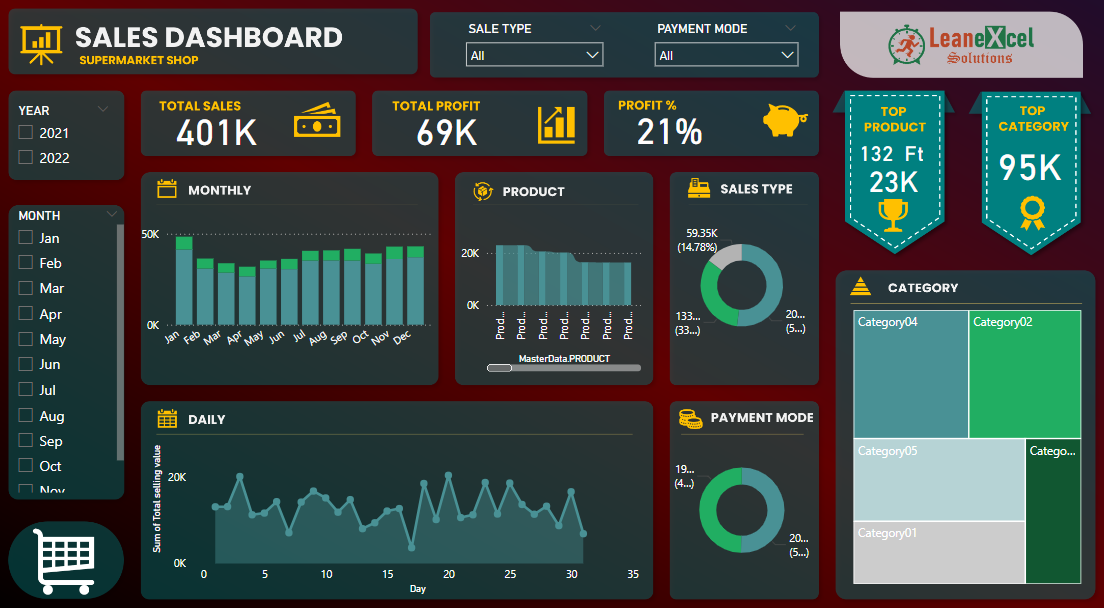

The page's visual inventory and layout, read from the dashboard file:
{"tool":"powerbi","page":{"name":"Page 1","canvas":[1280,720],"ordinal":0},"visuals":[{"type":"slicer","fields":{"Values":["InputData.Year"]},"box":[17.1,122.9,128.6,91.4],"z":0},{"type":"slicer","fields":{"Values":["InputData.Month Name"]},"box":[17.1,242.9,138.6,335.7],"z":1000},{"type":"slicer","fields":{"Values":["InputData.SALE TYPE"]},"box":[531.4,30,177.1,60],"z":2000},{"type":"slicer","fields":{"Values":["InputData.PAYMENT MODE"]},"box":[747.1,30,184.3,60],"z":3000},{"type":"card","fields":{"Values":["Sum(InputData.Total selling value)"]},"box":[204.3,132.9,104.3,50],"z":4000},{"type":"card","fields":{"Values":["InputData.profit"]},"box":[462.9,130,112.9,54.3],"z":5000},{"type":"card","fields":{"Values":["InputData.profit %"]},"box":[708.6,122.9,131.4,67.1],"z":6000},{"type":"card","fields":{"Values":["Sum(InputData.QUANTITY)"]},"box":[980,157.1,61.4,57.1],"z":7000},{"type":"card","fields":{"Values":["Sum(InputData.Total selling value)"]},"box":[1134.3,164.3,102.9,65.7],"z":8000},{"type":"card","fields":{"Values":["Sum(InputData.Total selling value)"]},"box":[995.7,194.3,68.6,42.9],"z":9000},{"type":"columnChart","fields":{"Category":["InputData.Month Name"],"Y":["Sum(InputData.Total selling value)","InputData.profit"]},"box":[165.7,242.9,342.9,185.7],"z":10000},{"type":"areaChart","fields":{"Y":["Sum(InputData.Total selling value)"],"Category":["InputData.Day"]},"box":[178.6,492.9,568.6,201.4],"z":11000},{"type":"donutChart","fields":{"Y":["Sum(InputData.Total selling value)"],"Category":["InputData.SALE TYPE"]},"box":[774.3,244.3,165.7,184.3],"z":12000},{"type":"donutChart","fields":{"Y":["Sum(InputData.Total selling value)"],"Category":["InputData.PAYMENT MODE"]},"box":[770,492.9,174.3,201.4],"z":13000},{"type":"treemap","fields":{"Values":["Sum(InputData.Total selling value)"],"Group":["InputData.MasterData.CATEGORY"]},"box":[980,360,270,322.9],"z":14000},{"type":"ribbonChart","fields":{"Category":["InputData.MasterData.PRODUCT"],"Y":["Sum(InputData.Total selling value)"]},"box":[531.4,255.7,215.7,184.3],"z":15000},{"type":"card","fields":{"Values":["Min(InputData.MasterData.UOM)"]},"box":[1030,164.3,48.6,42.9],"z":15001}]}

Visuals, with their boxes in screenshot pixels (x1, y1, x2, y2), scaled from the page's 1280x720 canvas onto the 1104x608 screenshot:
slicer - InputData.Year: bbox=(15, 104, 126, 181)
slicer - InputData.Month Name: bbox=(15, 205, 134, 489)
slicer - InputData.SALE TYPE: bbox=(458, 25, 611, 76)
slicer - InputData.PAYMENT MODE: bbox=(644, 25, 803, 76)
card - Sum(InputData.Total selling value): bbox=(176, 112, 266, 154)
card - InputData.profit: bbox=(399, 110, 497, 156)
card - InputData.profit %: bbox=(611, 104, 724, 160)
card - Sum(InputData.QUANTITY): bbox=(845, 133, 898, 181)
card - Sum(InputData.Total selling value): bbox=(978, 139, 1067, 194)
card - Sum(InputData.Total selling value): bbox=(859, 164, 918, 200)
columnChart - InputData.Month Name x Sum(InputData.Total selling value): bbox=(143, 205, 439, 362)
areaChart - Sum(InputData.Total selling value) x InputData.Day: bbox=(154, 416, 644, 586)
donutChart - Sum(InputData.Total selling value) x InputData.SALE TYPE: bbox=(668, 206, 811, 362)
donutChart - Sum(InputData.Total selling value) x InputData.PAYMENT MODE: bbox=(664, 416, 814, 586)
treemap - Sum(InputData.Total selling value) x InputData.MasterData.CATEGORY: bbox=(845, 304, 1078, 577)
ribbonChart - InputData.MasterData.PRODUCT x Sum(InputData.Total selling value): bbox=(458, 216, 644, 372)
card - Min(InputData.MasterData.UOM): bbox=(888, 139, 930, 175)
